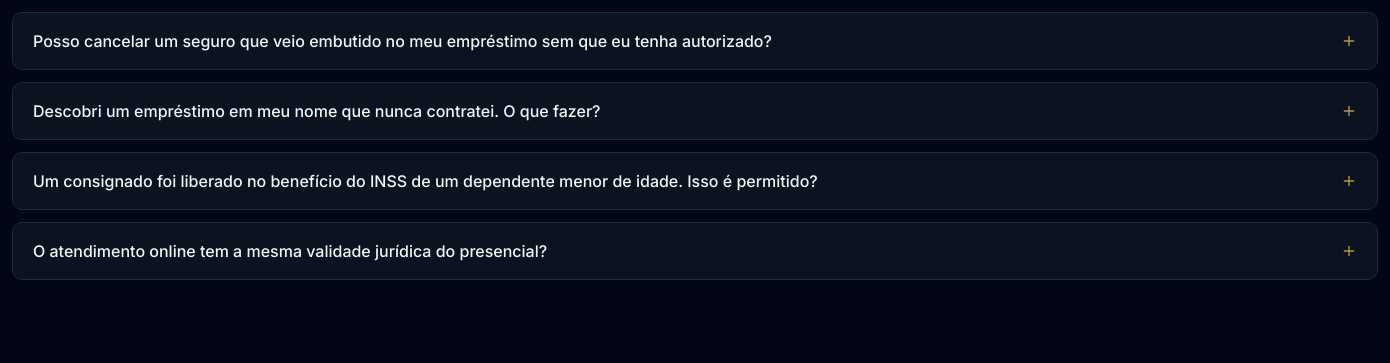
Faq › clicar numa pergunta abre a resposta correspondente
Click the button named "Posso cancelar um seguro que veio embutido no meu empréstimo sem que eu tenha autorizado?".
click(695, 41)  # box [13,13,1377,69]
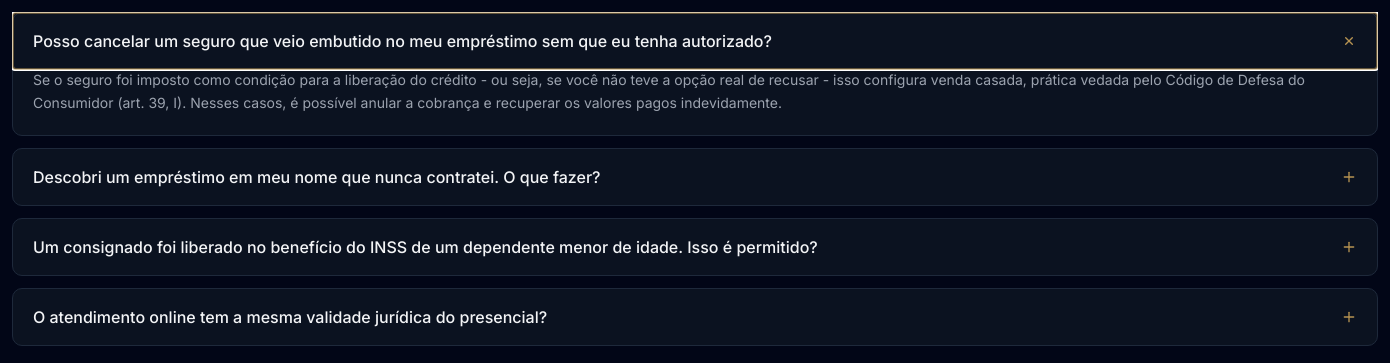
Check: the text "Se o seguro foi imposto como condição" is shown, box [33,71,1305,111]
